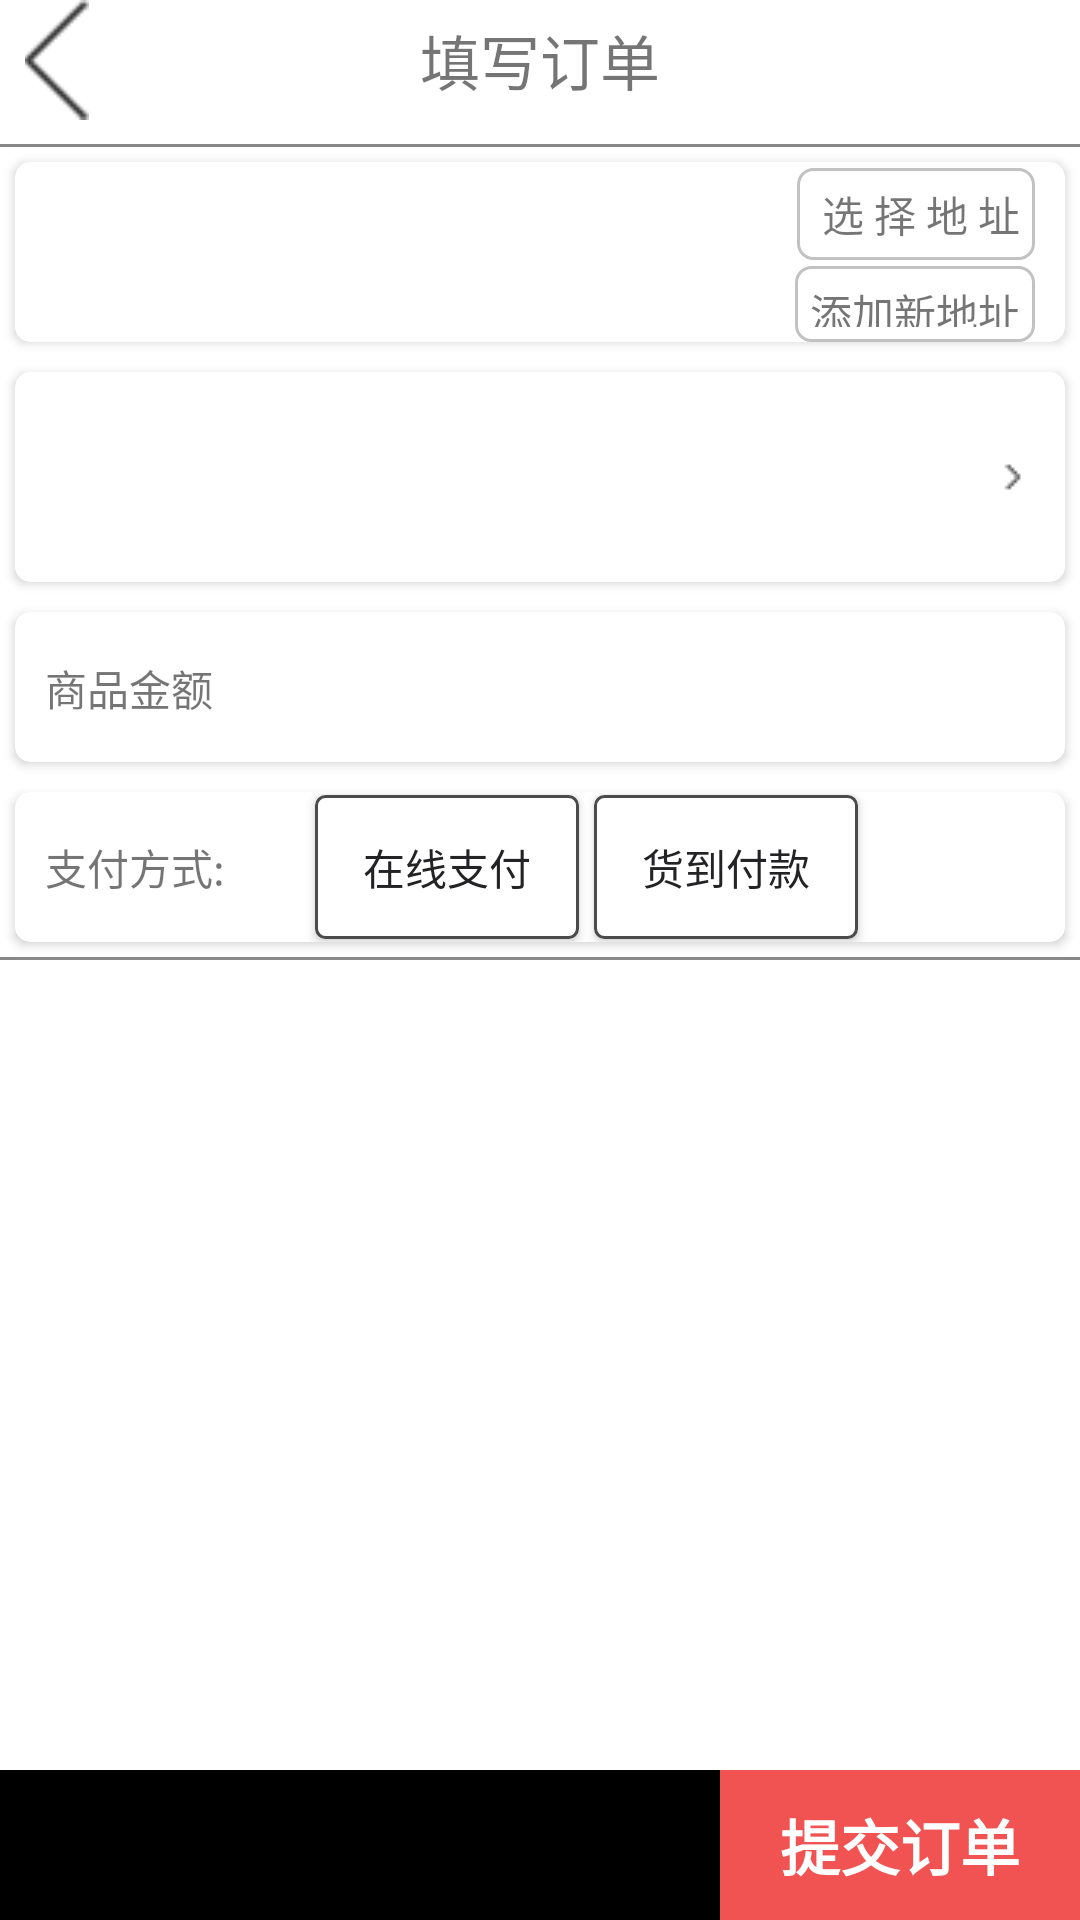

Where icons sit on this 1080px x 1920px app screen, as (x1, y1, x2, y2):
goback: (25, 0, 89, 120)
